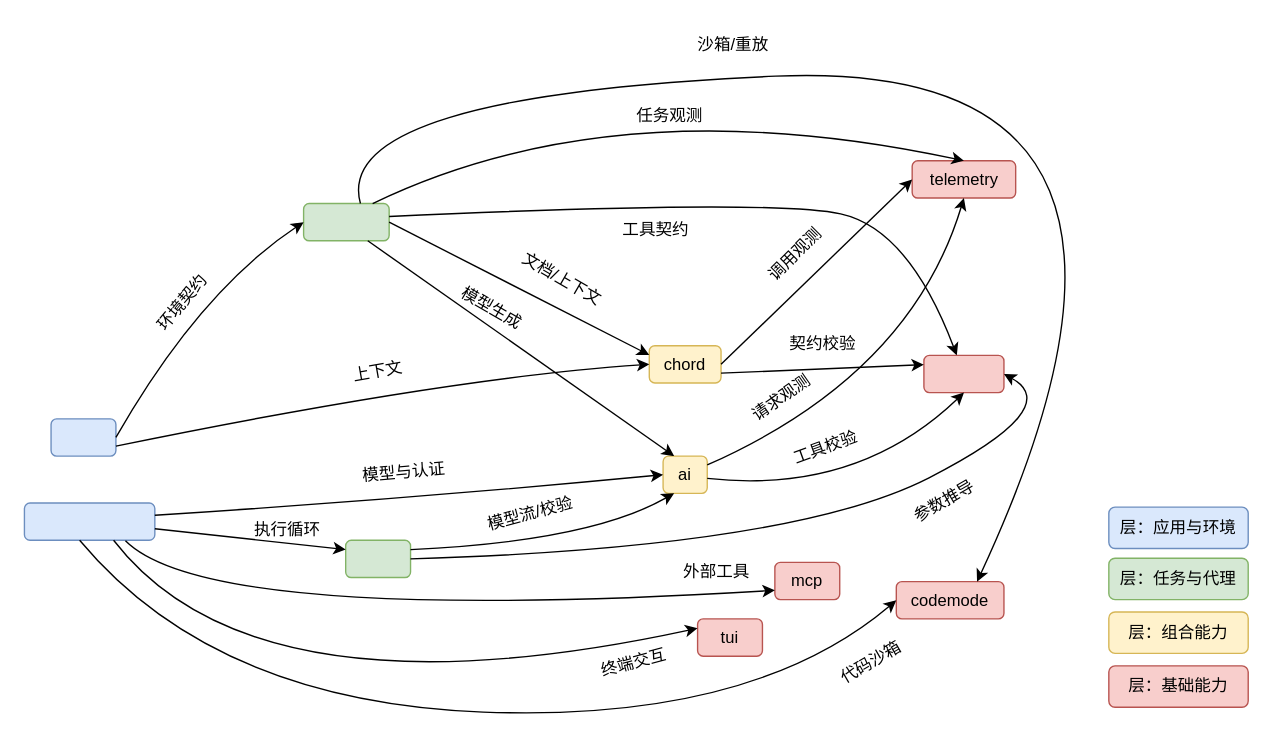
Image size: 1272x737. Some labels were removed from this diagram. The shapes that lost their labels are listed below. From the top down, each one's box as (x1, y1, x2, y2) in pixels, then its label:
(302, 202, 389, 241): durable
(923, 354, 1004, 393): schema
(50, 417, 116, 456): env
(23, 502, 155, 540): coding-agent
(344, 539, 411, 578): agent
